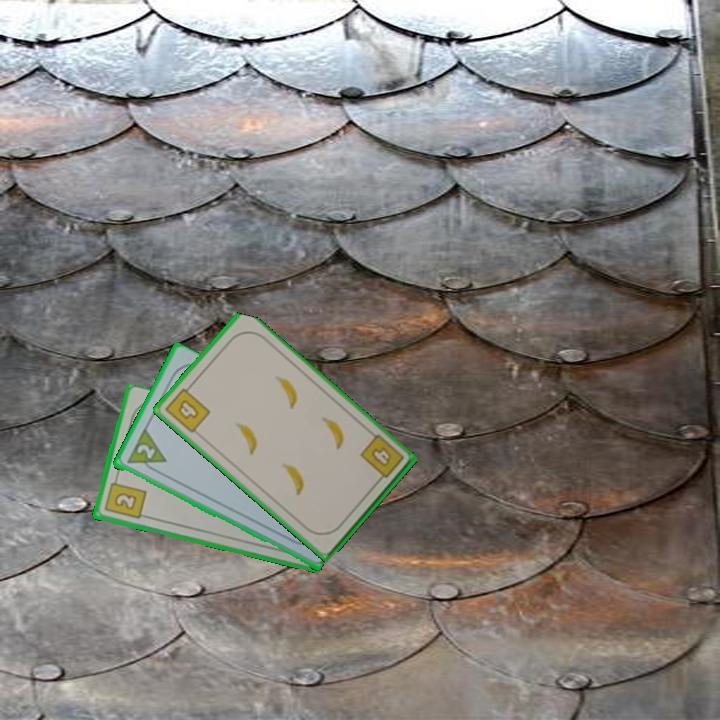2b: (101, 473, 148, 522)
2p: (123, 426, 169, 477)
4b: (161, 380, 213, 436), (356, 431, 407, 486)
